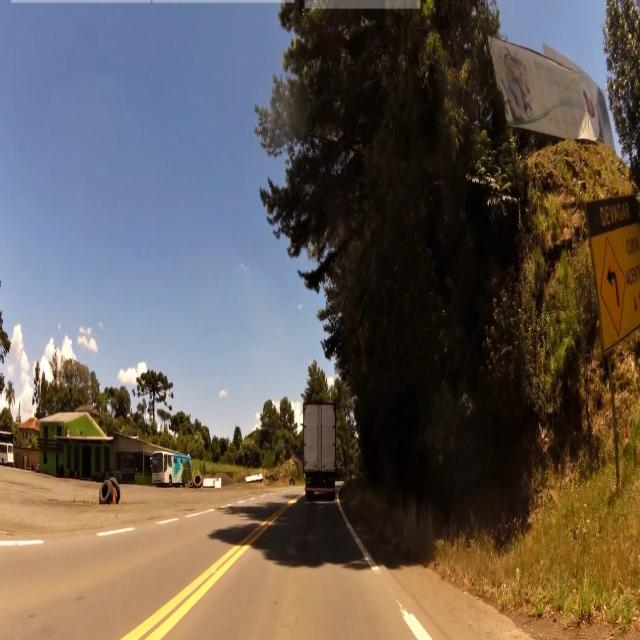A-1a: (595, 245, 627, 334)
